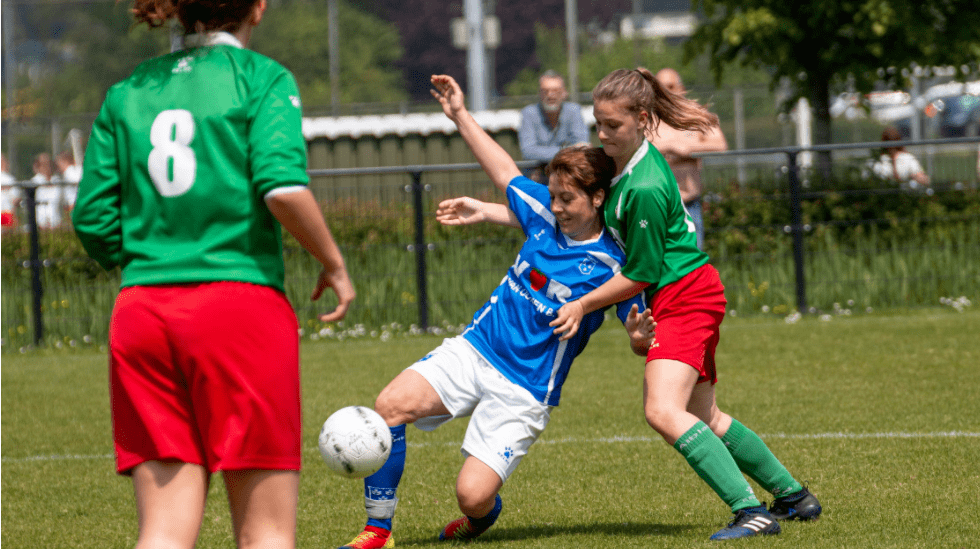football: (319, 404, 392, 479)
